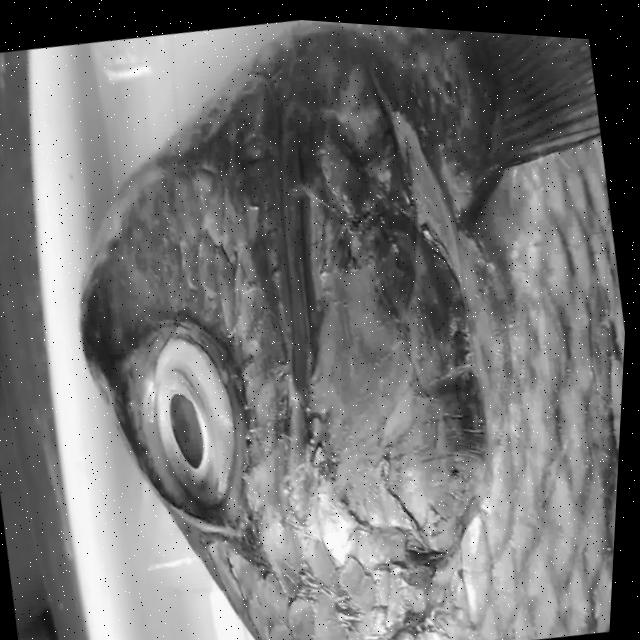Fresh: (118, 297, 281, 548)
